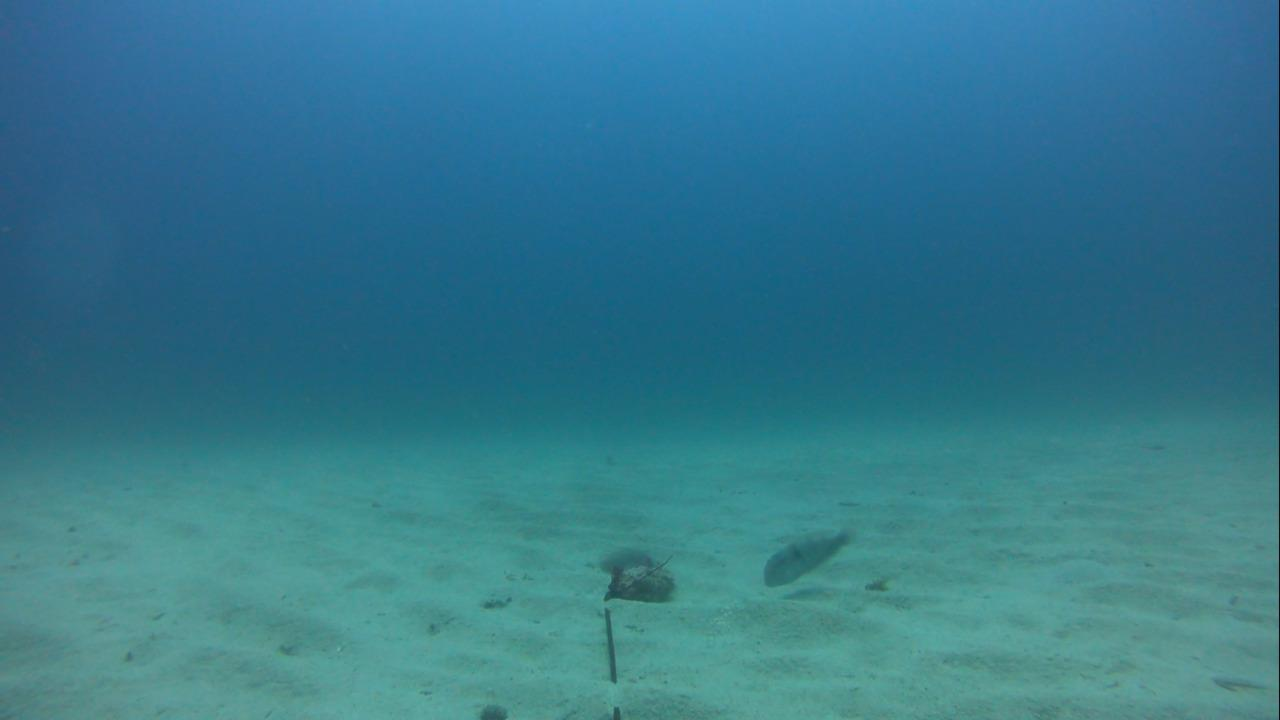raor: (760, 525, 854, 592), (586, 538, 663, 577)
